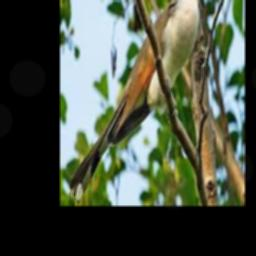Cuckoo: (69, 0, 208, 198)
